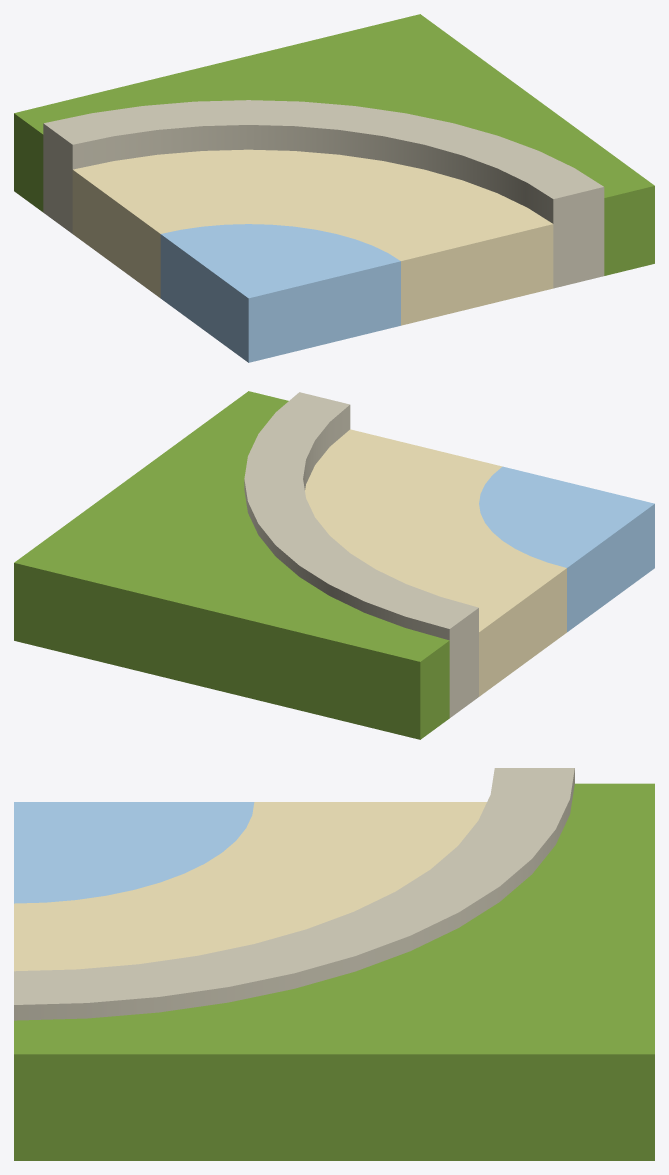
File: tile206.fbx
3 views of the same model, one above another, from view 1: azimuth 30°, elevation 25°; view 2: azimuth 150°, elevation 25°; view 3: azimuth 270°, elevation 25° (orthographic). The views are drawn at different scales.
Visible parts, largest first — view 1: tile206; view 2: tile206; view 3: tile206.
Boxes of the visible parts, box(x1,y1,x2,y2) form: tile206: box(14, 14, 654, 362); tile206: box(14, 391, 654, 739); tile206: box(14, 768, 654, 1160).
Size of the model in its own units: 10 by 2.1 by 10.
